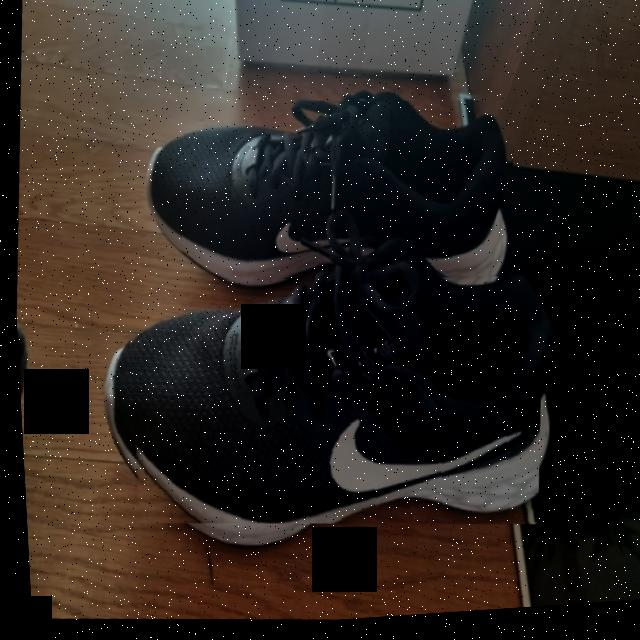shoe: (107, 270, 548, 553), (136, 82, 519, 307)
